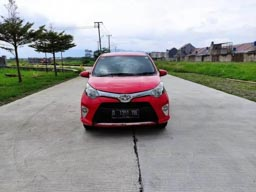plat: (110, 108, 140, 115)
